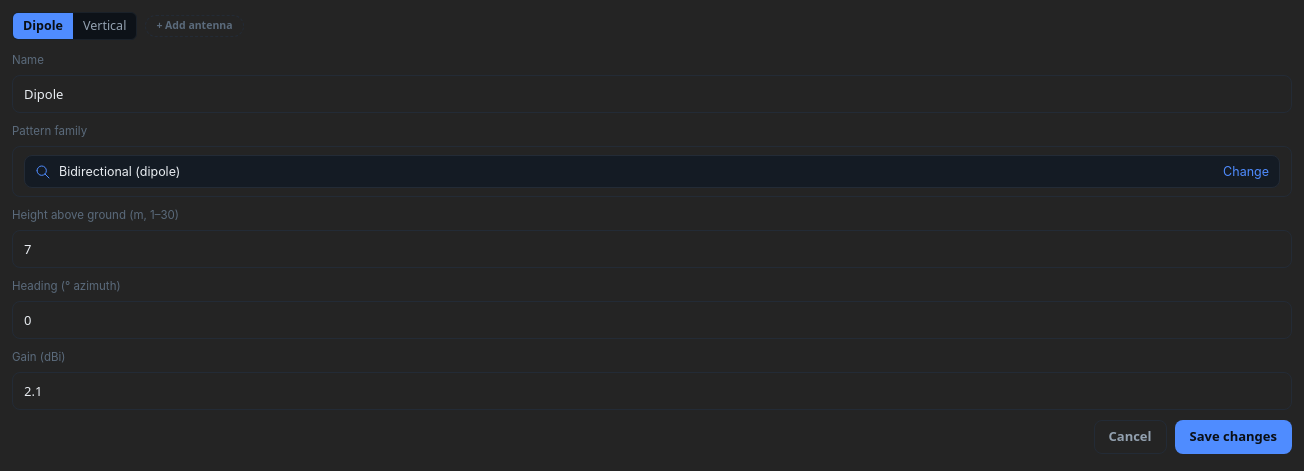
AntennaList › unsaved-changes indicator › appears once a field is edited, and clears after Save
The image size is (1304, 471).
Expected: the text "Unsaved changes" is not shown
Replace the text in the number field named "Height above ground (m)" with "12": (652, 249) [24,239,1280,259]
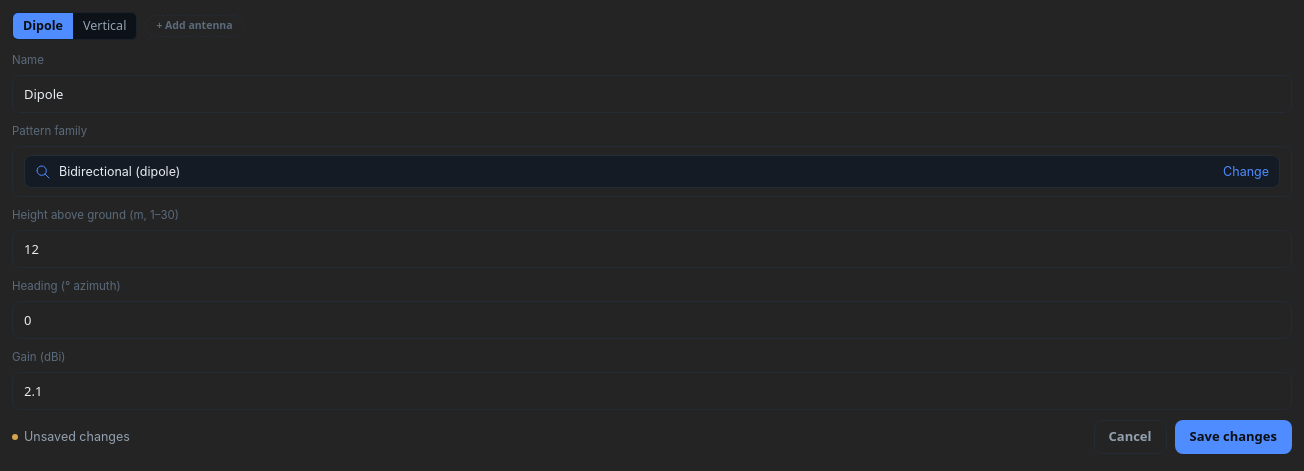
Result: the text "Unsaved changes" is shown at [24,427,130,447]
Click the button "Save changes": (1233, 437) [1174,420,1292,454]
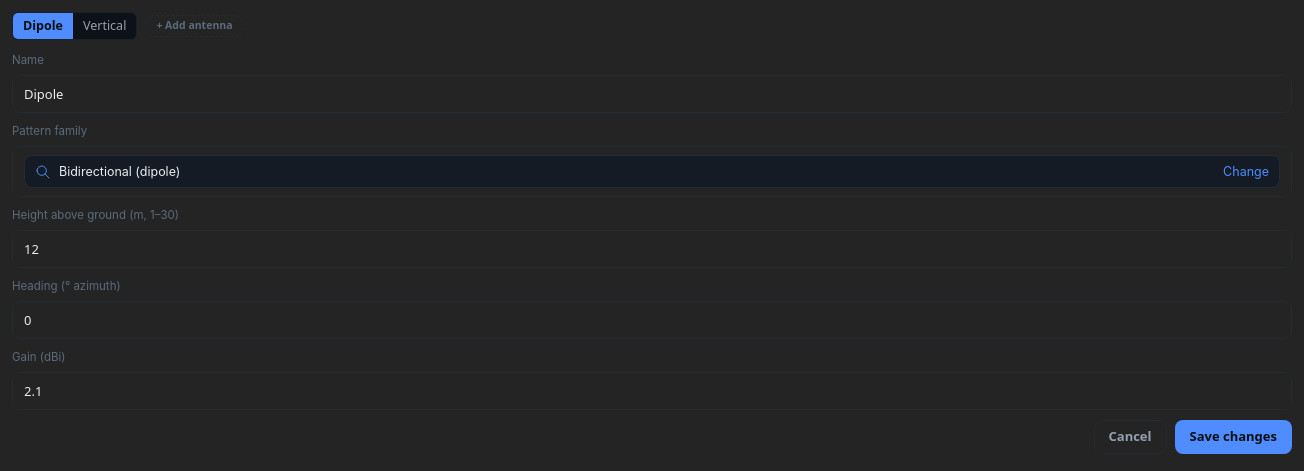
Result: the text "Unsaved changes" is gone
